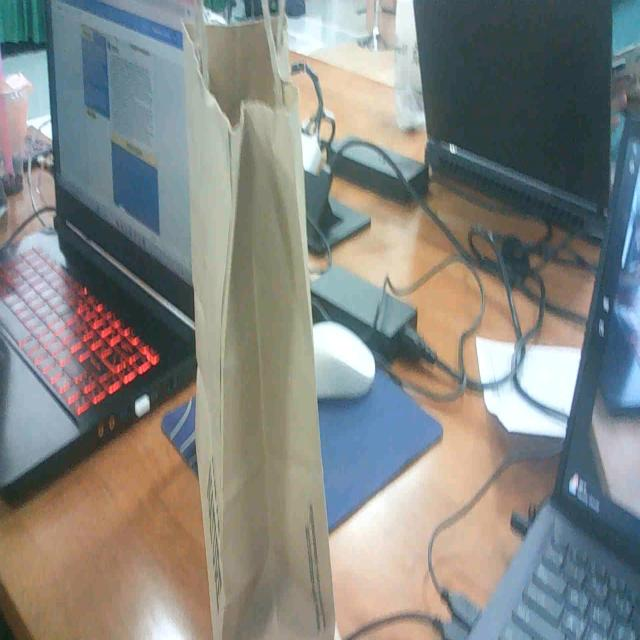bag: (171, 6, 344, 640)
